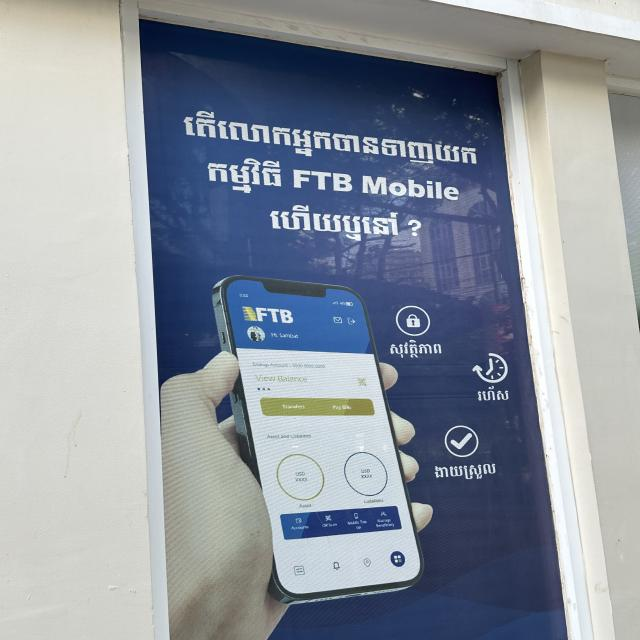Yolov11_80vkh: (171, 105, 482, 173), (255, 202, 427, 247), (199, 151, 287, 201), (428, 456, 502, 488), (386, 340, 446, 359), (466, 385, 514, 406)
